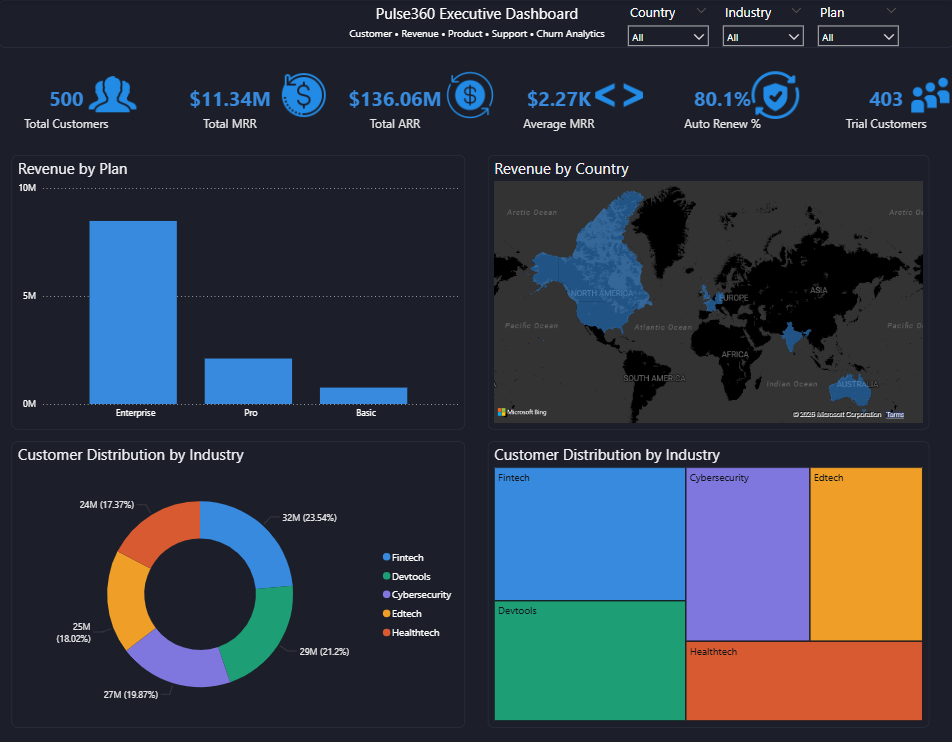

What the dashboard file says about the page in this screenshot:
{"tool":"powerbi","page":{"name":" Pulse360 Executive Overview","canvas":[1280,1000],"ordinal":0},"visuals":[{"type":"shape","title":"Pulse360 Executive Dashboard","box":[0,0,1280,64],"z":0},{"type":"card","fields":{"Values":["KPI.Total Customers"]},"box":[0,96,180,96],"z":1000},{"type":"card","fields":{"Values":["KPI.Total MRR"]},"box":[220,96,180,96],"z":2000},{"type":"card","fields":{"Values":["KPI.Total ARR"]},"box":[440,96,180,96],"z":3000},{"type":"card","fields":{"Values":["KPI.Average MRR"]},"box":[660,96,180,96],"z":4000},{"type":"card","fields":{"Values":["KPI.Auto Renew %"]},"box":[880,96,180,96],"z":5000},{"type":"card","fields":{"Values":["KPI.Trial Customers"]},"box":[1100,96,180,96],"z":6000},{"type":"slicer","fields":{"Values":["vw_customer360.country"]},"box":[832,0,128,64],"z":7000},{"type":"slicer","fields":{"Values":["vw_customer360.industry"]},"box":[960,0,128,64],"z":8000},{"type":"slicer","fields":{"Values":["vw_customer360.plan_tier"]},"box":[1088,0,128,64],"z":9000},{"type":"clusteredColumnChart","title":"Revenue by Plan","fields":{"Category":["vw_customer360.plan_tier"],"Y":["KPI.Total MRR"]},"box":[16,208,608,368],"z":10000},{"type":"filledMap","title":"Revenue by Country","fields":{"Category":["vw_customer360.country"]},"box":[656,208,592,368],"z":11000},{"type":"donutChart","title":"Customer Distribution by Industry","fields":{"Category":["vw_customer360.industry"],"Y":["KPI.Total ARR"]},"box":[16,592,608,384],"z":12000},{"type":"treemap","title":"Customer Distribution by Industry","fields":{"Group":["vw_customer360.industry"],"Values":["KPI.Total ARR"]},"box":[656,592,592,384],"z":13000},{"type":"image","box":[112,96,80,64],"z":14000},{"type":"image","box":[368,96,80,64],"z":15000},{"type":"image","box":[592,96,80,64],"z":16000},{"type":"image","box":[800,96,64,64],"z":17000},{"type":"image","box":[1008,96,64,64],"z":18000},{"type":"image","box":[1216,96,64,64],"z":19000}]}

Visuals, with their boxes in screenshot pixels (x1, y1, x2, y2), scaled from the page's 1280x1000 canvas onto the 952x742 screenshot:
"Pulse360 Executive Dashboard" shape: rect(0, 0, 951, 47)
card - KPI.Total Customers: rect(0, 71, 134, 142)
card - KPI.Total MRR: rect(164, 71, 298, 142)
card - KPI.Total ARR: rect(327, 71, 461, 142)
card - KPI.Average MRR: rect(491, 71, 625, 142)
card - KPI.Auto Renew %: rect(654, 71, 788, 142)
card - KPI.Trial Customers: rect(818, 71, 951, 142)
slicer - vw_customer360.country: rect(619, 0, 714, 47)
slicer - vw_customer360.industry: rect(714, 0, 809, 47)
slicer - vw_customer360.plan_tier: rect(809, 0, 904, 47)
"Revenue by Plan" clusteredColumnChart: rect(12, 154, 464, 427)
"Revenue by Country" filledMap: rect(488, 154, 928, 427)
"Customer Distribution by Industry" donutChart: rect(12, 439, 464, 724)
"Customer Distribution by Industry" treemap: rect(488, 439, 928, 724)
image: rect(83, 71, 143, 119)
image: rect(274, 71, 333, 119)
image: rect(440, 71, 500, 119)
image: rect(595, 71, 643, 119)
image: rect(750, 71, 797, 119)
image: rect(904, 71, 951, 119)
